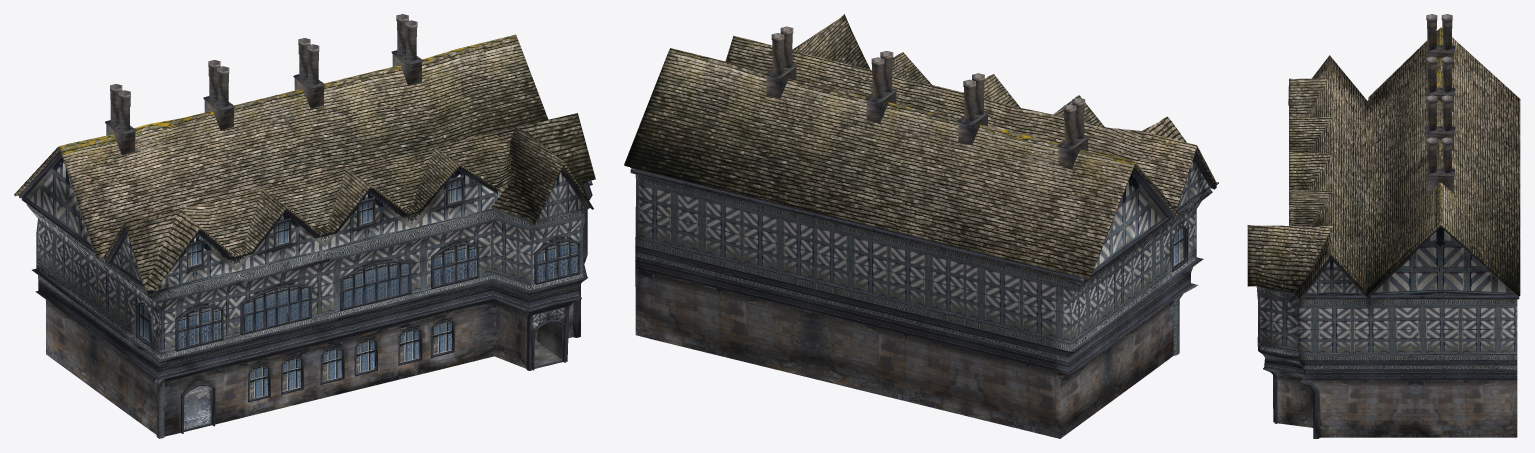
Rendered from medhouse5.fbx.
3 views of the same model, side by side, from view 1: azimuth 30°, elevation 25°; view 2: azimuth 150°, elevation 25°; view 3: azimuth 270°, elevation 25° (orthographic). The views are drawn at different scales.
Visible parts, largest first — view 1: medhouse5, medhouse5_interior; view 2: medhouse5; view 3: medhouse5.
Part boxes in pixels (x1,y1,x2,y2): medhouse5: [14, 14, 595, 438]; medhouse5_interior: [534, 322, 562, 366]; medhouse5: [624, 14, 1218, 438]; medhouse5: [1247, 14, 1520, 438].
Size of the model in its own units: 2822 by 1696 by 1645.
